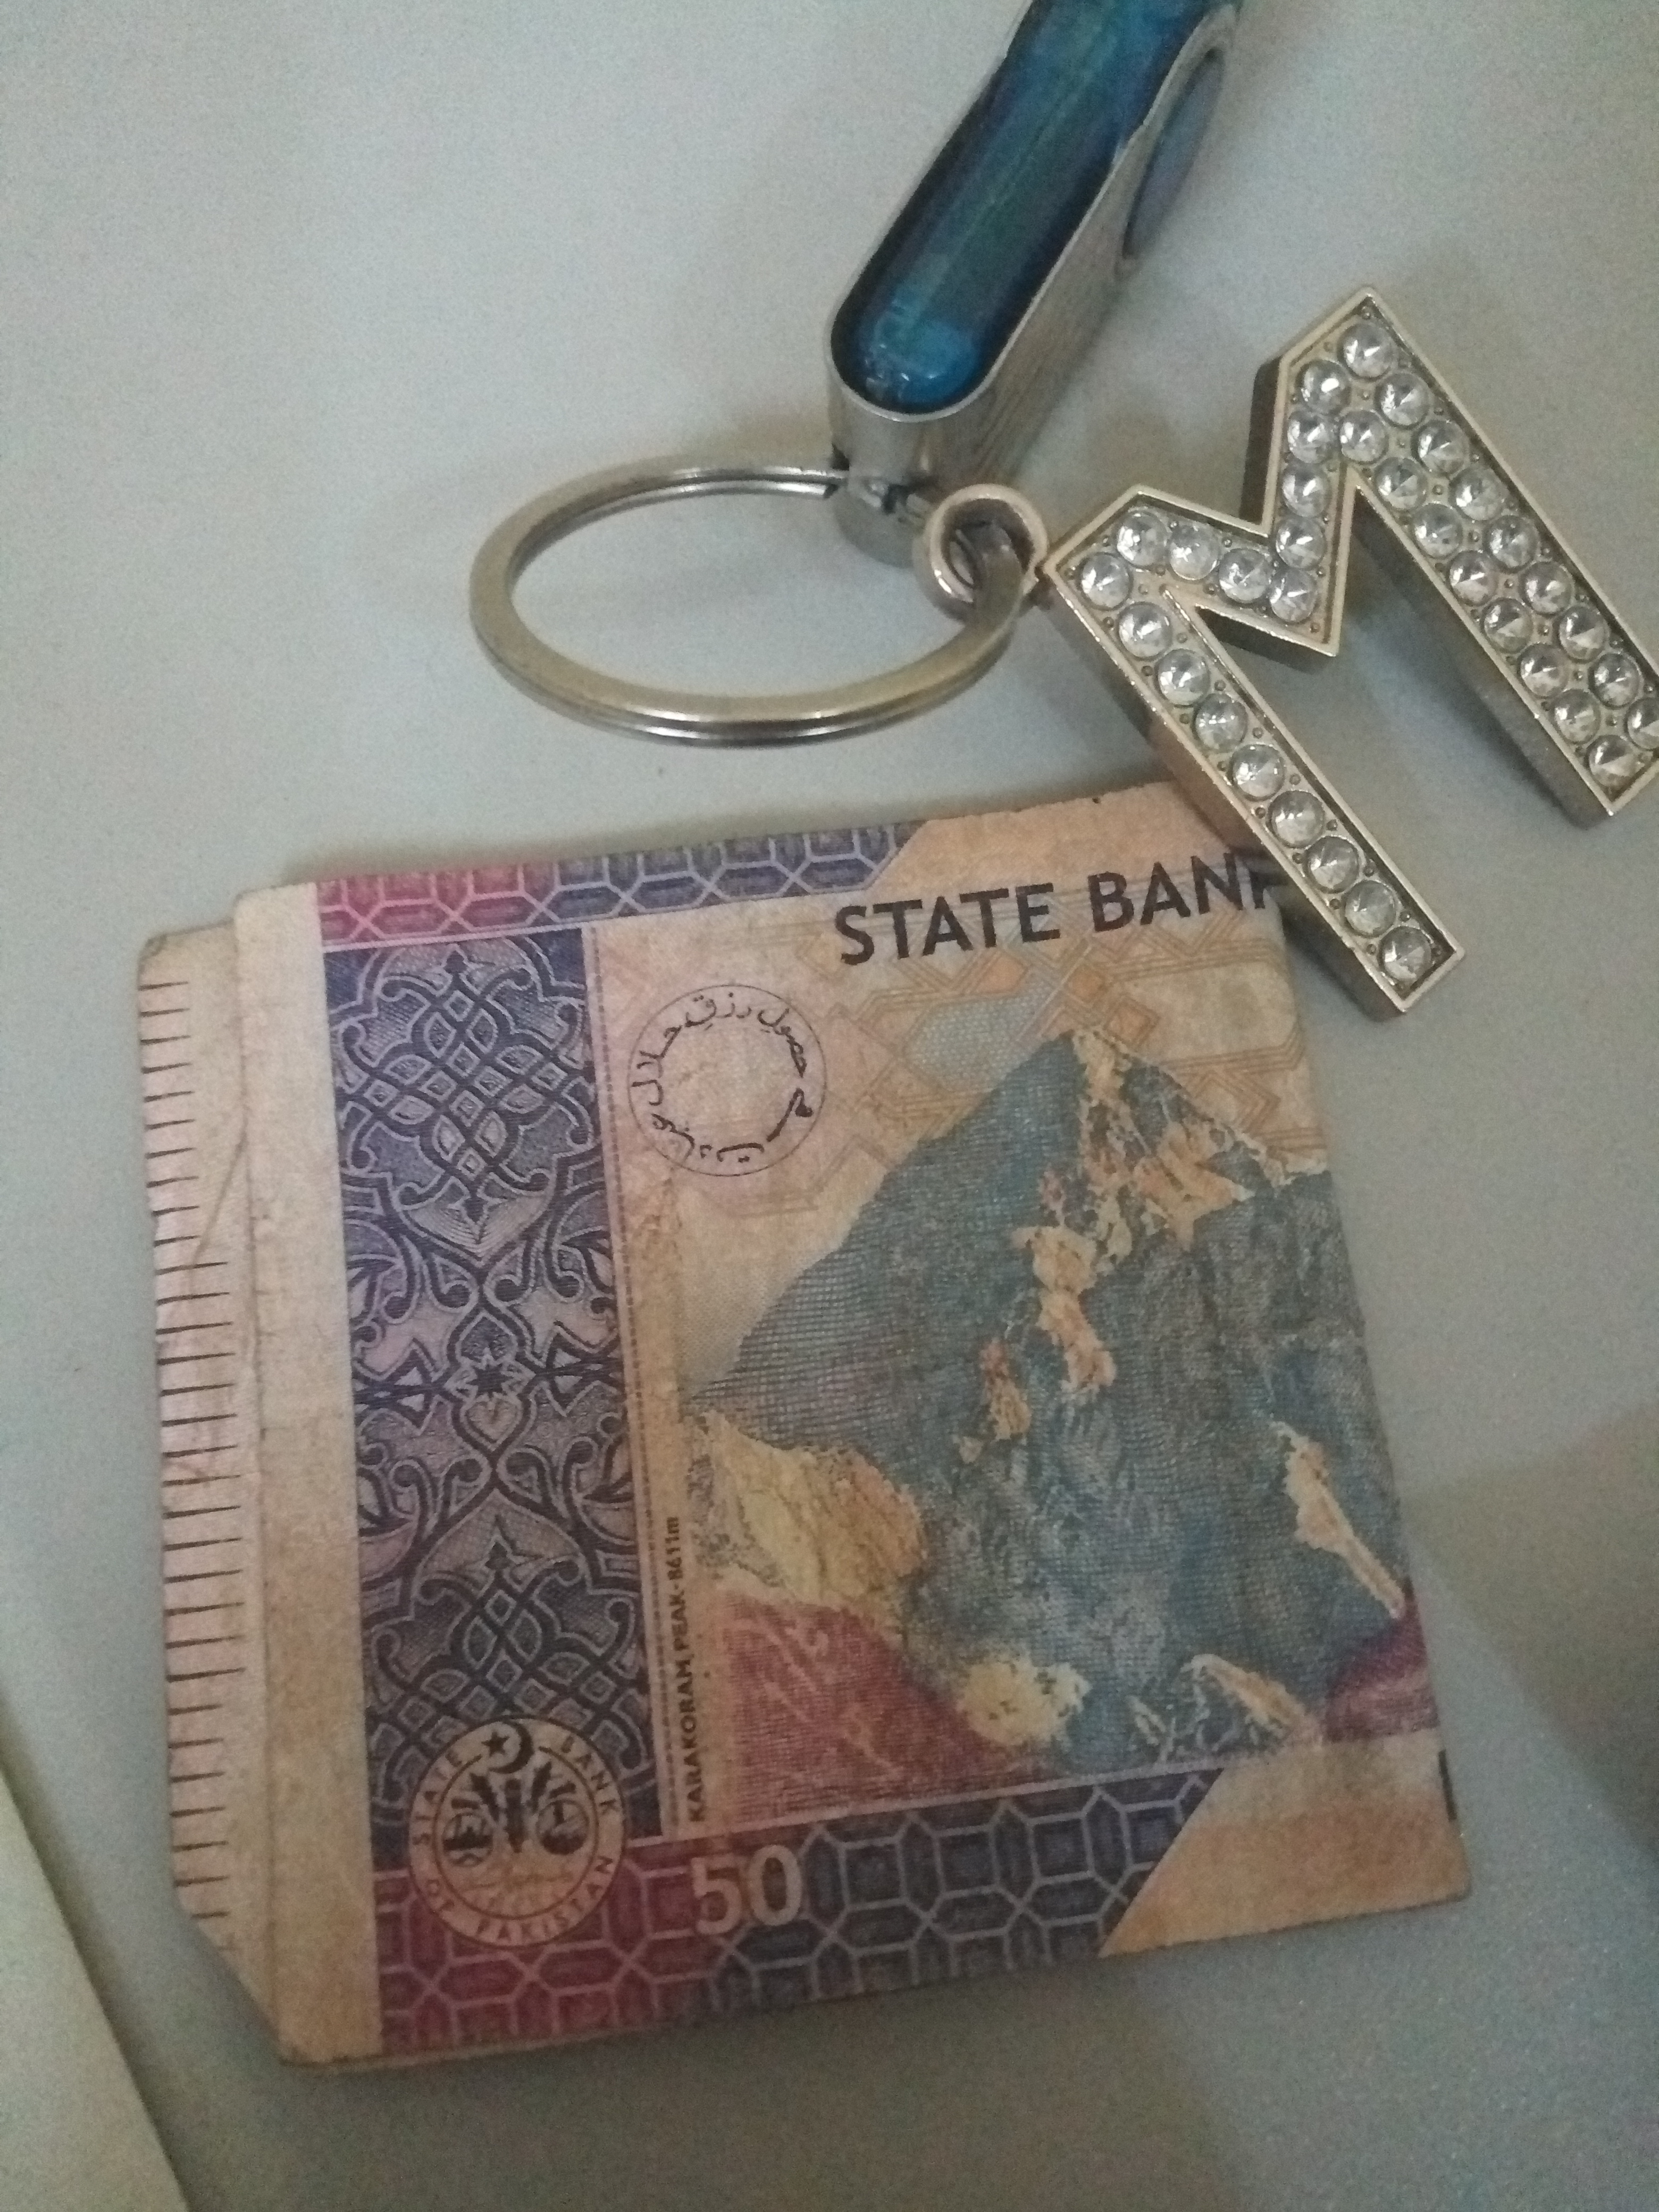50 rupee: (118, 813, 1540, 2076)
